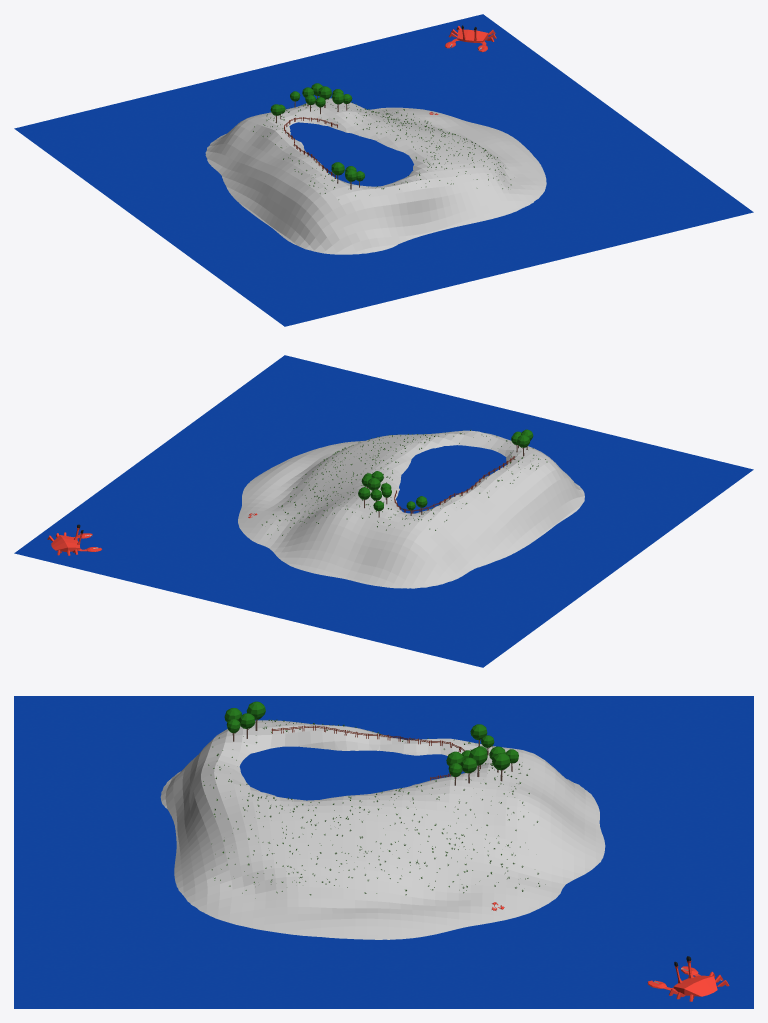
Rendered from map.gltf.
The picture shows the model from 3 angles, top to bottom: view 1: azimuth 30°, elevation 25°; view 2: azimuth 150°, elevation 25°; view 3: azimuth 270°, elevation 25°; orthographic projection. The views are drawn at different scales.
Parts seen in each view (by area): view 1: sea, ground_Baked, lake, crab; view 2: sea, ground_Baked, lake, crab; view 3: sea, ground_Baked, lake, crab.
Part boxes in pixels (<box>): sea: <box>14,14,753,326</box>; ground_Baked: <box>205,98,546,254</box>; lake: <box>289,122,413,186</box>; crab: <box>445,25,496,52</box>; sea: <box>14,355,753,667</box>; ground_Baked: <box>238,430,584,588</box>; lake: <box>395,445,506,513</box>; crab: <box>47,524,101,555</box>; sea: <box>14,696,753,1008</box>; ground_Baked: <box>160,720,605,939</box>; lake: <box>239,746,464,800</box>; crab: <box>647,956,729,1001</box>.
Size of what is drawn, in the model's own units: 205 by 28.94 by 205.
